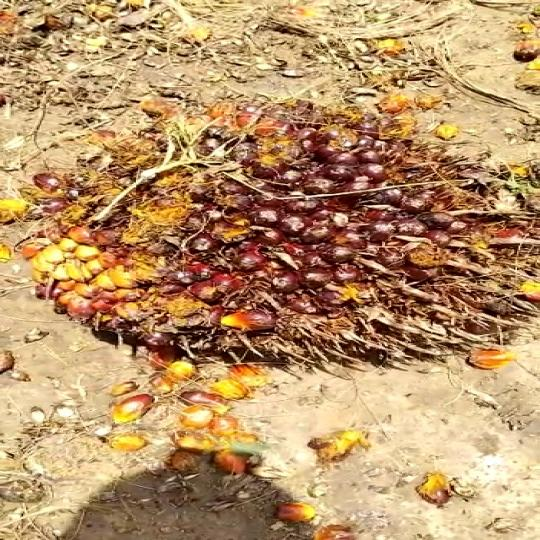masak: (0, 80, 540, 378)
